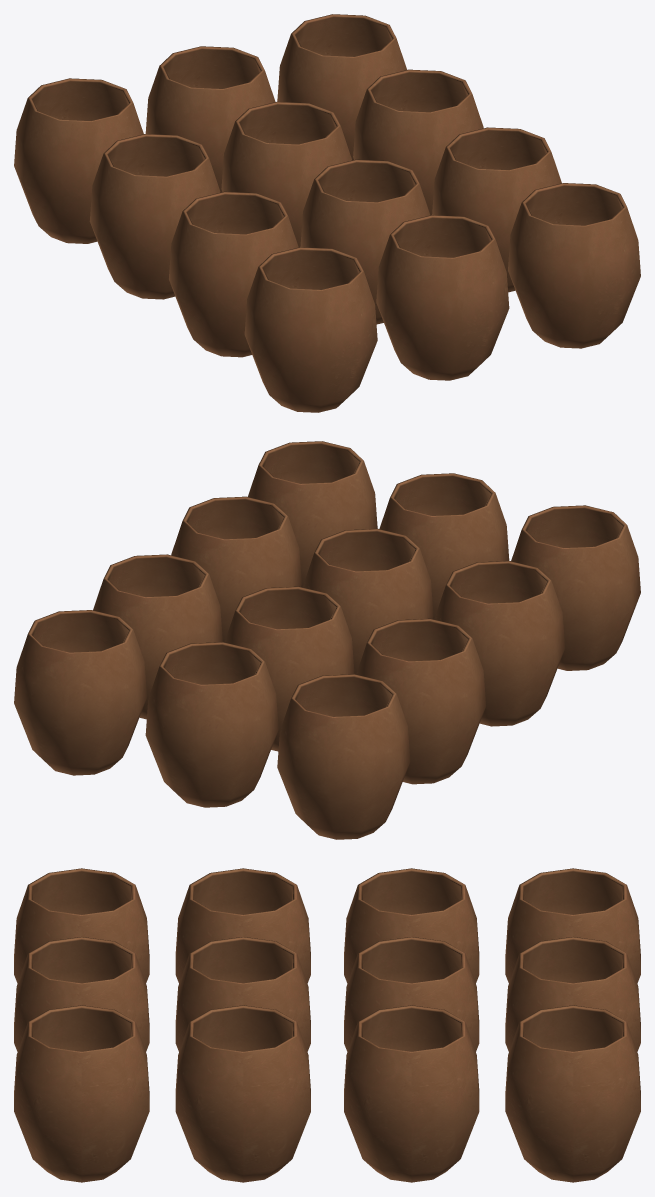
Rendered from BigCupGroup.fbx.
3 views of the same model, one above another, from view 1: azimuth 30°, elevation 25°; view 2: azimuth 150°, elevation 25°; view 3: azimuth 270°, elevation 25° (orthographic). The views are drawn at different scales.
Visible parts, largest first — view 1: BigCup5, BigCup4, BigCup3, BigCup6, BigCup11, BigCup, BigCup8, BigCup7, BigCup2, BigCup1, BigCup10, BigCup9; view 2: BigCup11, BigCup10, BigCup9, BigCup, BigCup5, BigCup6, BigCup2, BigCup1, BigCup8, BigCup7, BigCup4, BigCup3; view 3: BigCup2, BigCup8, BigCup3, BigCup9, BigCup1, BigCup5, BigCup7, BigCup11, BigCup4, BigCup10, BigCup, BigCup6.
Boxes of the visible parts, x1,y1,x2,y2 form: BigCup5: (244, 247, 377, 412); BigCup4: (376, 215, 509, 380); BigCup3: (508, 183, 640, 348); BigCup6: (89, 134, 220, 299); BigCup11: (14, 78, 143, 243); BigCup: (169, 191, 298, 357); BigCup8: (353, 69, 483, 215); BigCup7: (221, 101, 351, 247); BigCup2: (432, 127, 561, 292); BigCup1: (300, 159, 429, 324); BigCup10: (145, 46, 275, 192); BigCup9: (277, 14, 406, 160); BigCup11: (277, 674, 410, 839); BigCup10: (145, 642, 278, 807); BigCup9: (14, 610, 146, 775); BigCup: (434, 561, 565, 726); BigCup5: (511, 505, 640, 670); BigCup6: (356, 618, 485, 784); BigCup2: (171, 496, 301, 642); BigCup1: (303, 528, 433, 674); BigCup8: (93, 554, 222, 719); BigCup7: (225, 586, 354, 751); BigCup4: (379, 473, 509, 619); BigCup3: (248, 441, 377, 587); BigCup2: (175, 1005, 310, 1182); BigCup8: (344, 1005, 479, 1182); BigCup3: (14, 1005, 149, 1182); BigCup9: (505, 1005, 640, 1182); BigCup1: (175, 937, 310, 1051); BigCup5: (14, 868, 149, 983); BigCup7: (344, 937, 479, 1051); BigCup11: (505, 868, 640, 983); BigCup4: (14, 937, 149, 1051); BigCup10: (505, 937, 640, 1051); BigCup: (175, 868, 310, 983); BigCup6: (344, 868, 479, 983).
Size of the model in its own units: 28.79 by 9.47 by 38.69.
